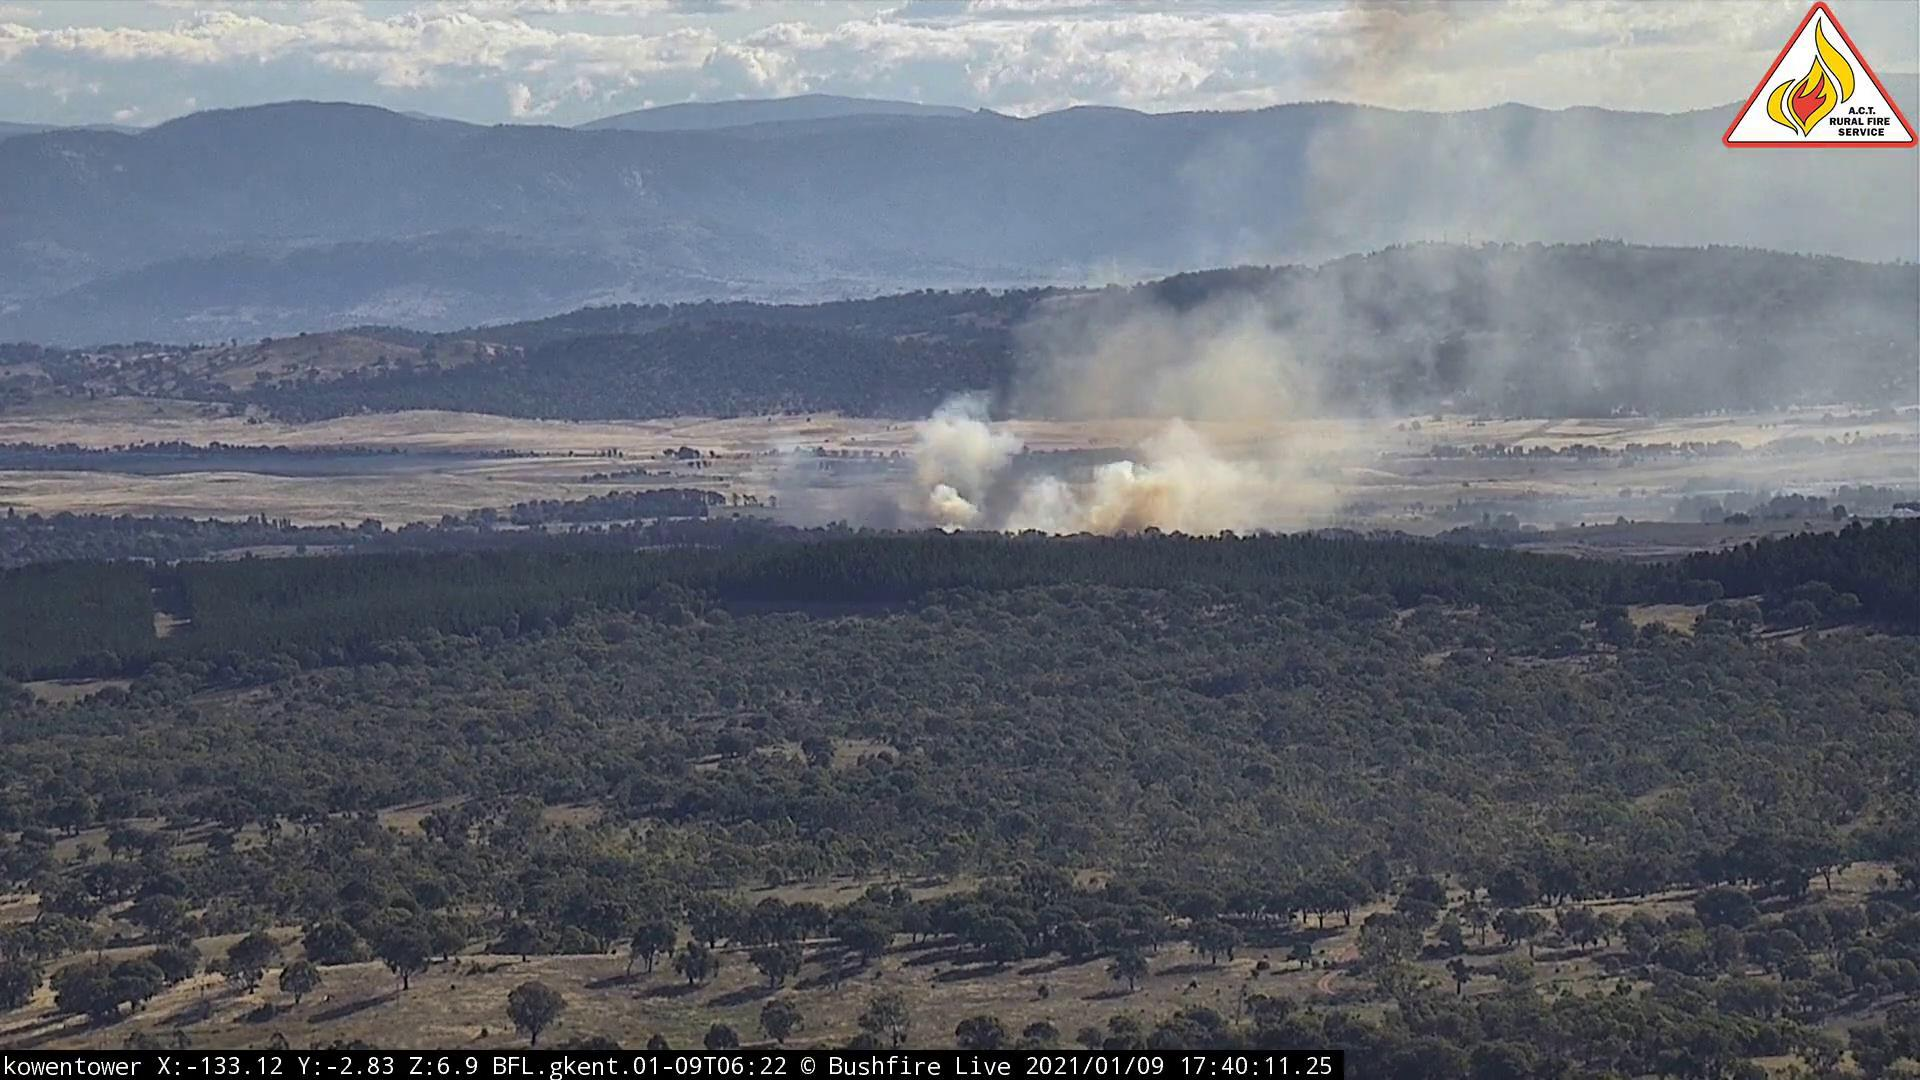instance_salient_object: (731, 3, 1708, 542)
